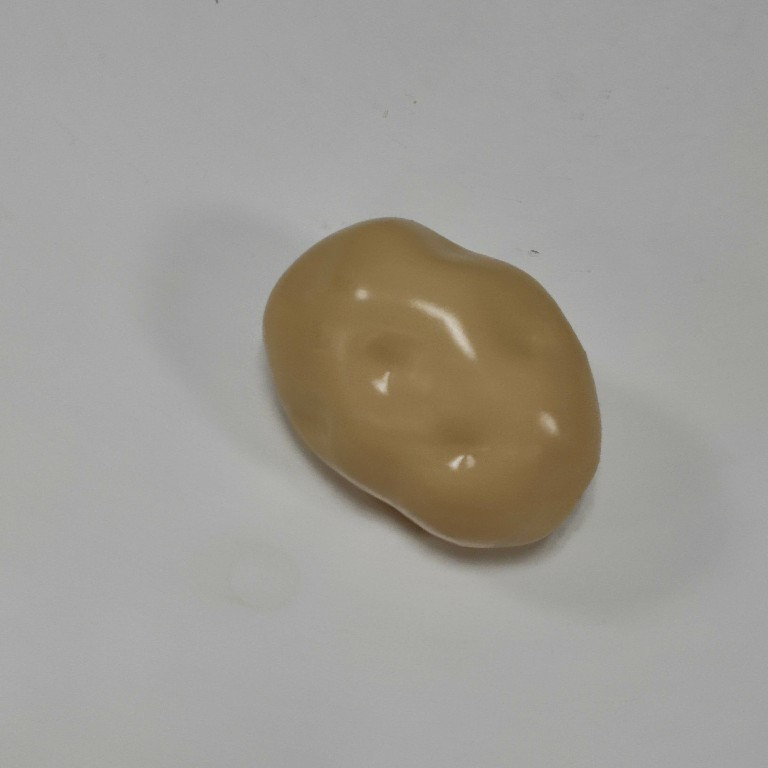fruit_potato: (259, 214, 607, 554)
